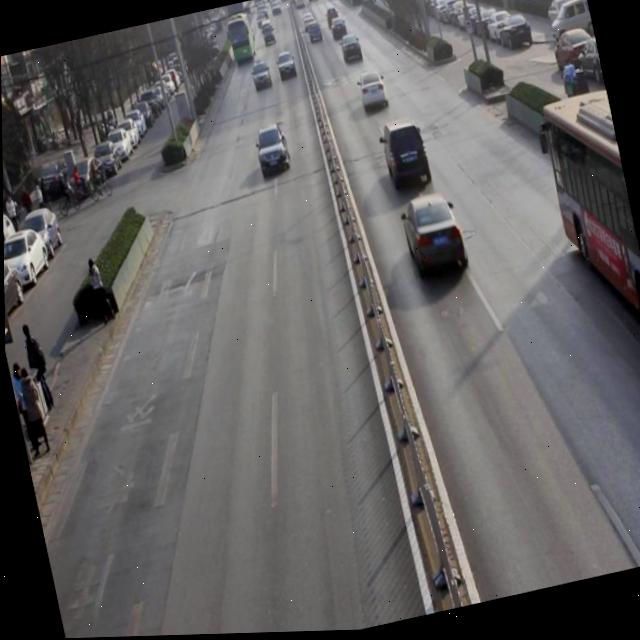car: (396, 190, 471, 286), (376, 116, 435, 196), (253, 123, 292, 182), (355, 69, 390, 115), (275, 51, 300, 85), (339, 34, 364, 66), (250, 61, 274, 93)
truck: (260, 21, 277, 49)
van: (537, 87, 640, 371)
